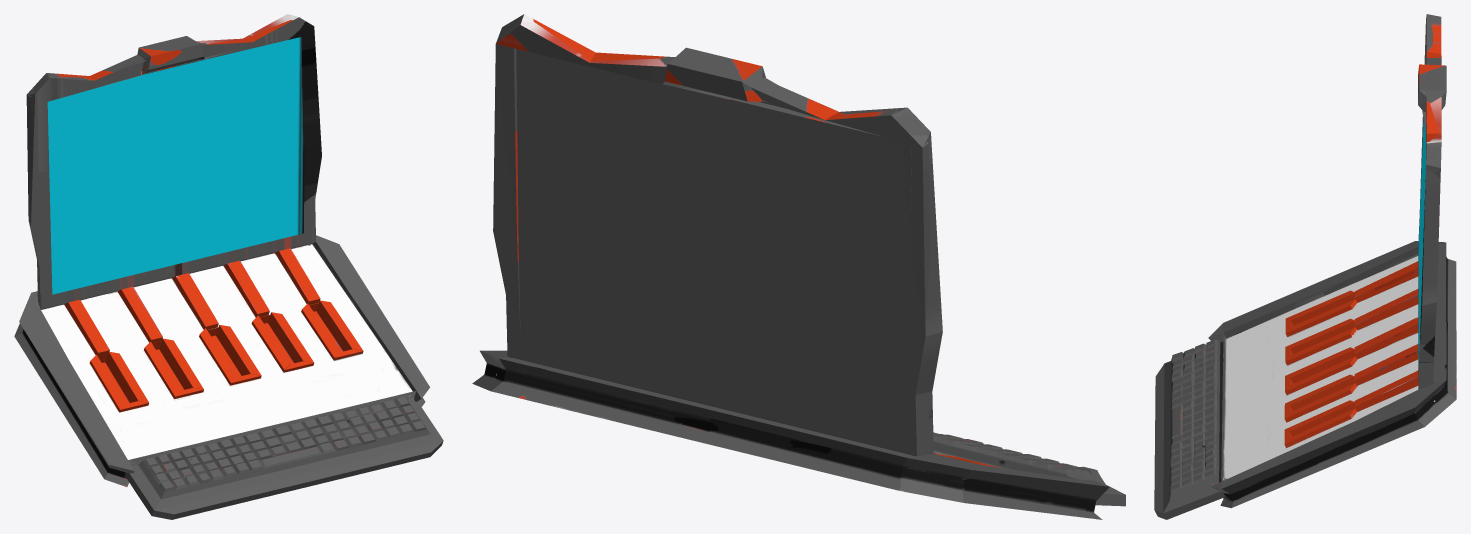
The model's file is console.fbx.
The picture shows the model from 3 angles, left to right: view 1: azimuth 30°, elevation 25°; view 2: azimuth 150°, elevation 25°; view 3: azimuth 270°, elevation 25°; orthographic projection. The views are drawn at different scales.
Parts seen in each view (by area): view 1: Cube.001; view 2: Cube.001; view 3: Cube.001.
Part boxes in pixels (x1=…): Cube.001: x1=14, y1=14, x2=443, y2=519; Cube.001: x1=472, y1=14, x2=1125, y2=519; Cube.001: x1=1154, y1=14, x2=1456, y2=519.
Size of the model in its own units: 121 by 126 by 93.38.
